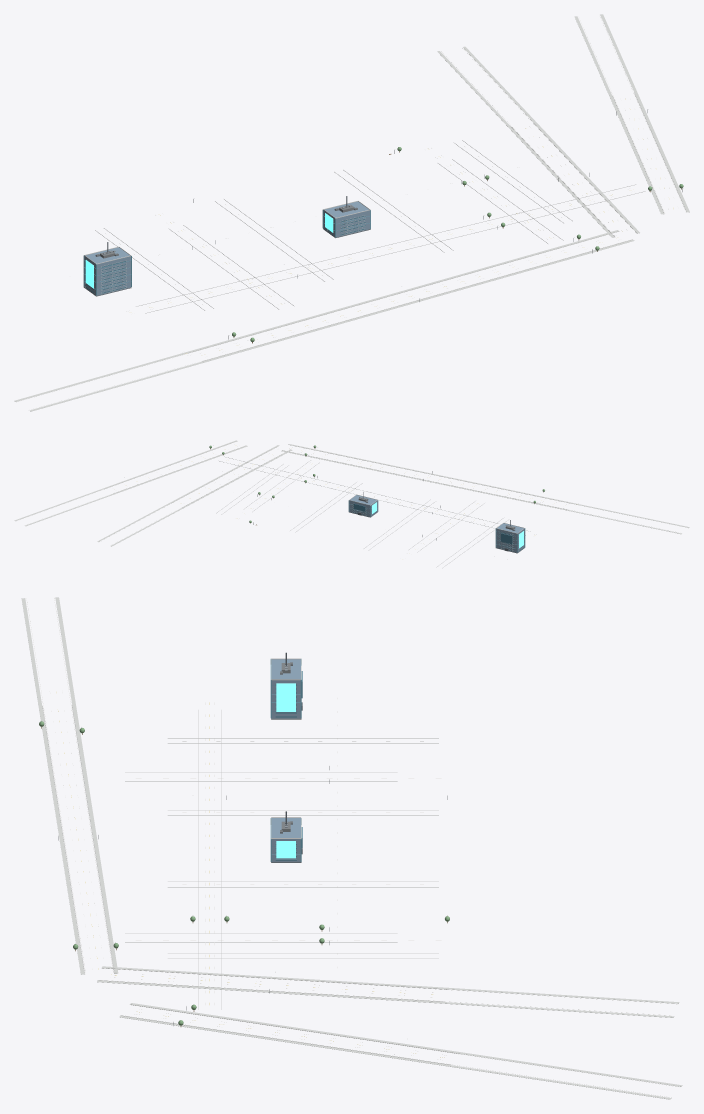
The model's file is detail-sector-ne.glb.
3 views of the same model, one above another, from view 1: azimuth 30°, elevation 25°; view 2: azimuth 150°, elevation 25°; view 3: azimuth 270°, elevation 25° (orthographic). The views are drawn at different scales.
Parts seen in each view (by area): view 1: trim_light, curb, facade_tech, glass_blue, road_white; view 2: trim_light, curb, facade_tech, v4_arch_ne_arch_tech; view 3: trim_light, curb, facade_tech, road_white, v4_arch_ne_arch_neon_cyan.
Part boxes in pixels (left/top/right/bottom): trim_light: left=14, top=14, right=689, bottom=411; curb: left=95, top=93, right=686, bottom=361; facade_tech: left=84, top=201, right=370, bottom=295; glass_blue: left=86, top=215, right=365, bottom=293; road_white: left=16, top=17, right=684, bottom=407; trim_light: left=14, top=440, right=689, bottom=553; curb: left=105, top=441, right=574, bottom=568; facade_tech: left=349, top=495, right=524, bottom=552; v4_arch_ne_arch_tech: left=348, top=500, right=525, bottom=552; trim_light: left=21, top=597, right=682, bottom=1099; curb: left=42, top=705, right=460, bottom=1064; facade_tech: left=271, top=659, right=300, bottom=862; road_white: left=26, top=598, right=677, bottom=1097; v4_arch_ne_arch_neon_cyan: left=276, top=683, right=295, bottom=858.
Size of the model in its own units: 1401 by 73.32 by 779.
